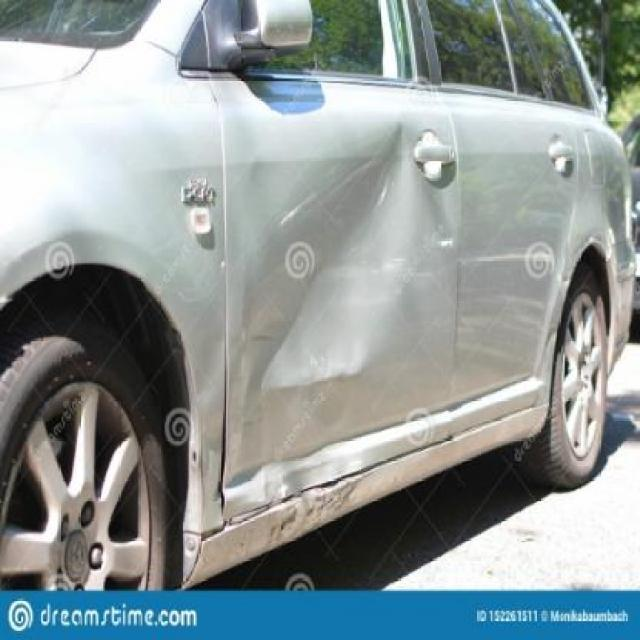minor: (272, 503, 366, 546), (283, 457, 349, 495), (228, 466, 269, 495), (317, 475, 362, 495)
moderate: (252, 117, 408, 394)
